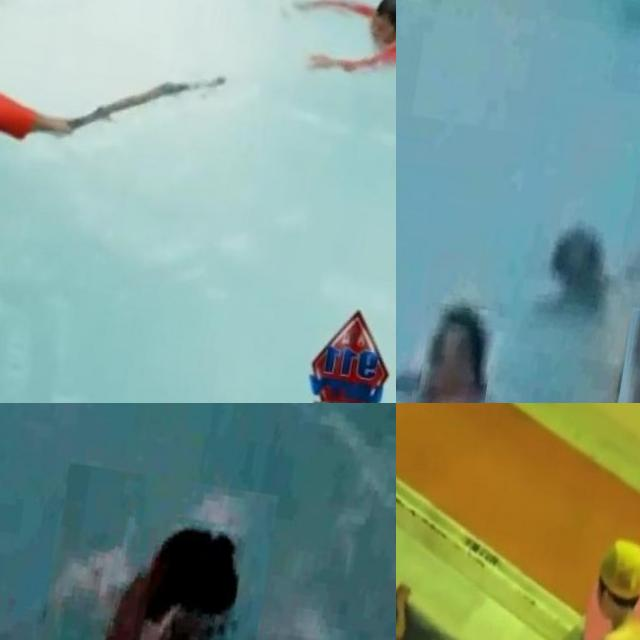drowning: (10, 464, 279, 640), (512, 130, 640, 311), (319, 0, 396, 123)
out of water: (0, 0, 91, 224), (520, 530, 640, 640)
swimming: (411, 301, 499, 403), (605, 306, 640, 403)
